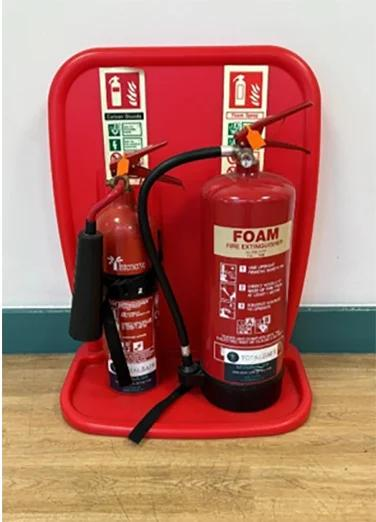wall-mounted: (140, 102, 314, 409), (70, 140, 184, 398)
